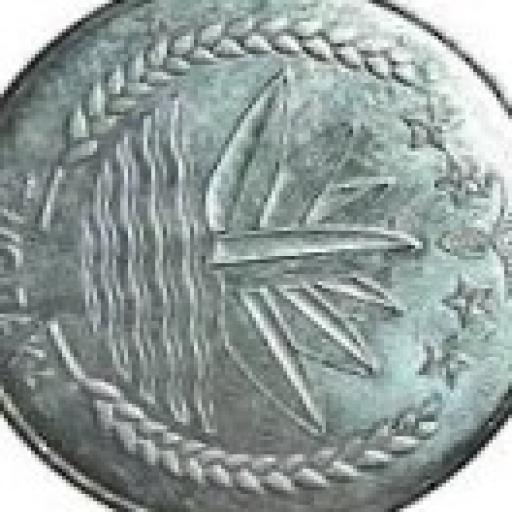5taka: (0, 0, 508, 508)
